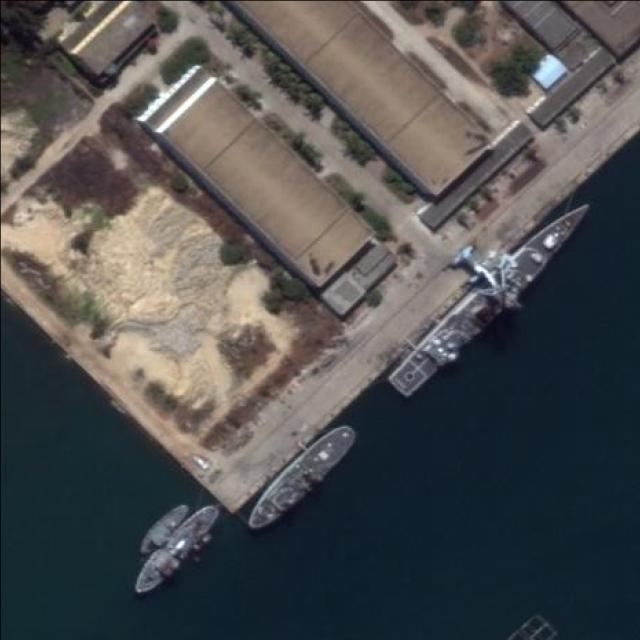Auxiliary Ships: (378, 195, 601, 400)
Other Warship: (237, 416, 363, 538), (127, 498, 228, 604), (133, 497, 193, 560)
